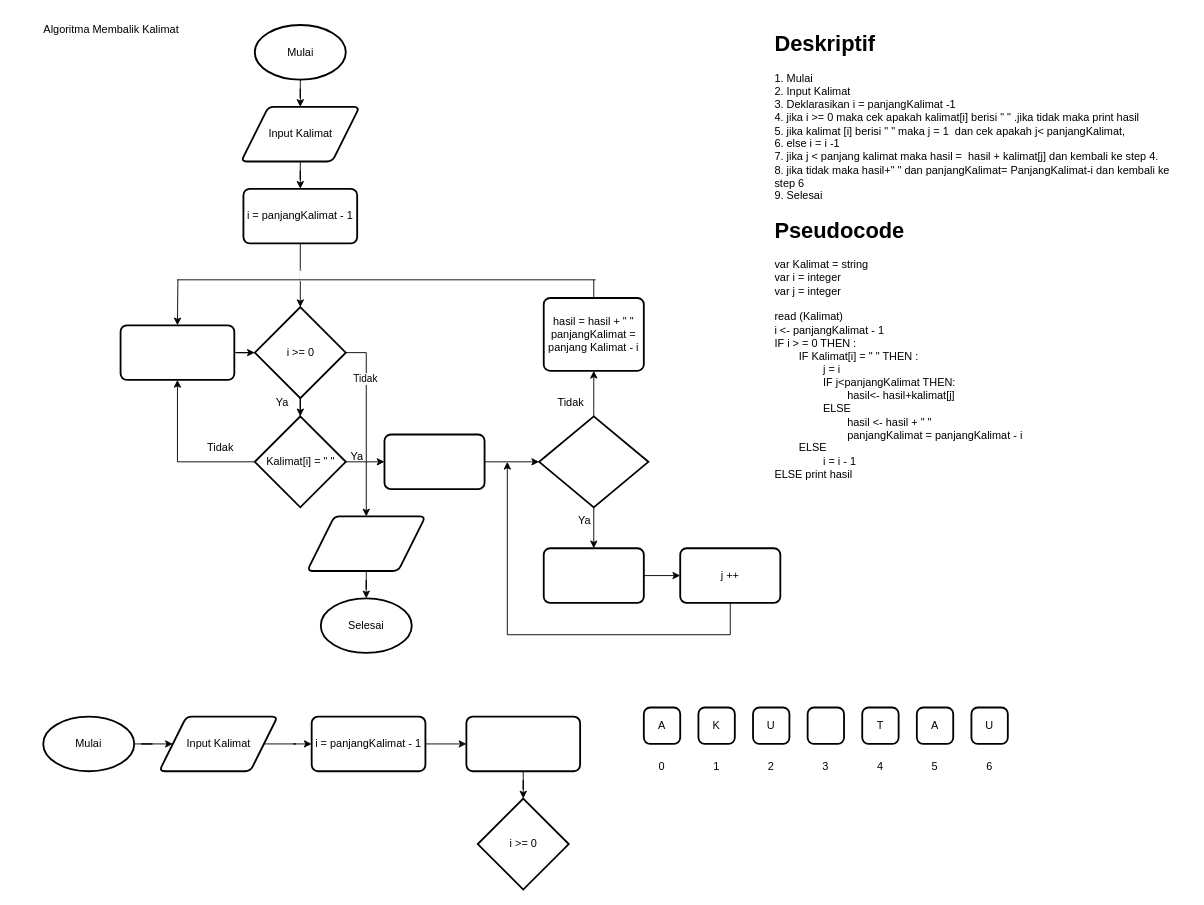
Some shapes in this 1204 by 905 pixel diagram are drawn without their labels. Here are the shapes that lost their labels. From the top down, the centre of each, then its label:
pixel 177 352: i = i - 1
pixel 434 461: j = i + 1
pixel 593 461: j < panjangKalimat
pixel 366 543: "hasil"
pixel 593 575: hasil = hasil+Kalimat[j]
pixel 523 743: Kalimat = " "+Kalimat
